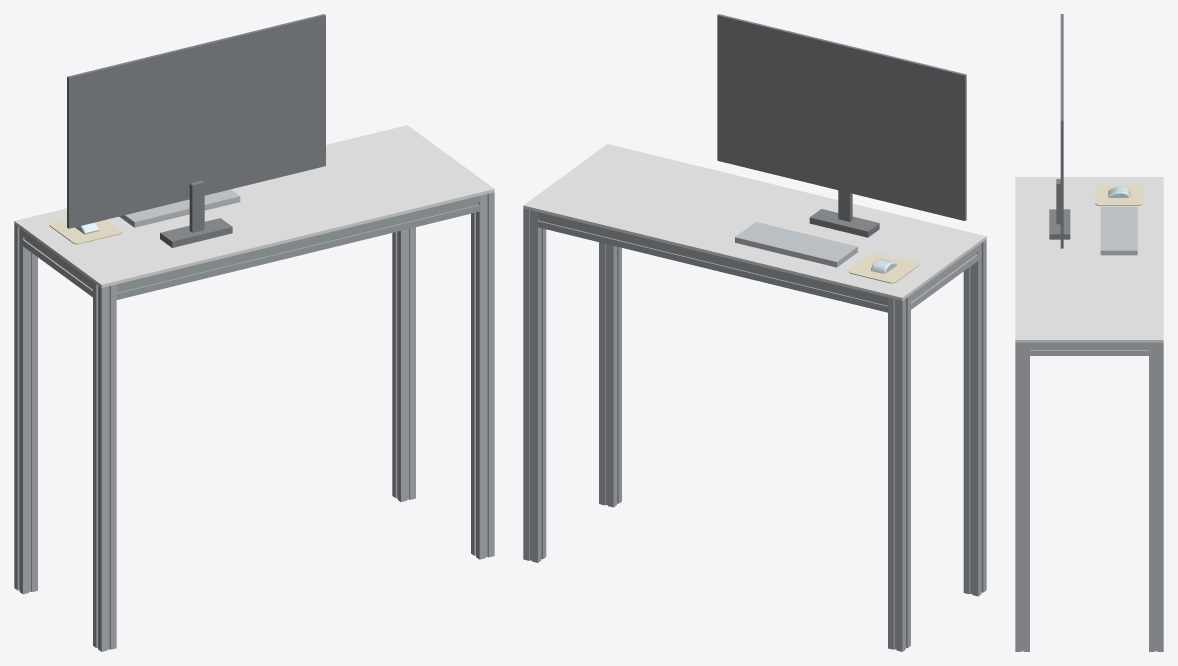
File: PC MES.glb
3 views of the same model, side by side, from view 1: azimuth 30°, elevation 25°; view 2: azimuth 150°, elevation 25°; view 3: azimuth 270°, elevation 25° (orthographic). The views are drawn at different scales.
Parts seen in each view (by area): view 1: Part 1 (×8), Part 3, Part 2; view 2: Part 1 (×8), Part 3, Part 2; view 3: Part 1 (×5), Part 3, Part 2.
Boxes of the visible parts, <box> form: Part 1 (×8): <box>14,14,494,651</box>; Part 3: <box>119,189,240,227</box>; Part 2: <box>49,219,122,244</box>; Part 1 (×8): <box>523,14,986,651</box>; Part 3: <box>735,222,857,267</box>; Part 2: <box>848,253,919,283</box>; Part 1 (×5): <box>1015,14,1163,651</box>; Part 3: <box>1100,206,1137,255</box>; Part 2: <box>1095,185,1142,205</box>.
Bounding box in the file's own units: 1.32 × 1.76 × 0.5.
